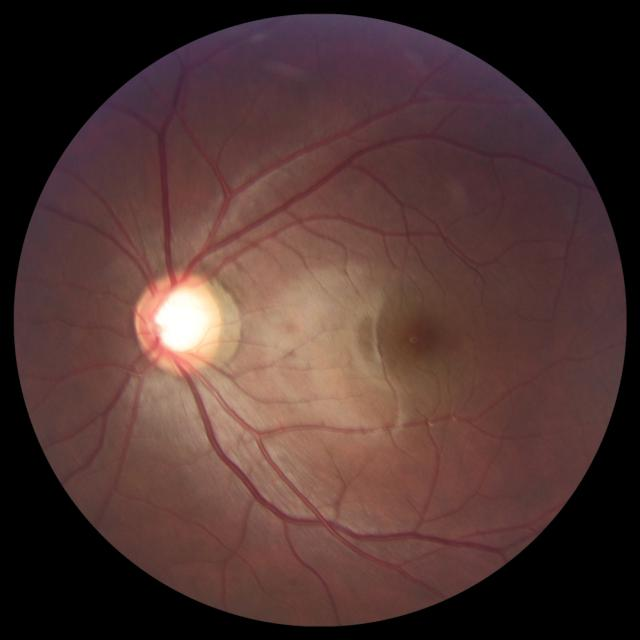OC: (154, 286, 211, 352)
OD: (132, 269, 224, 375)
